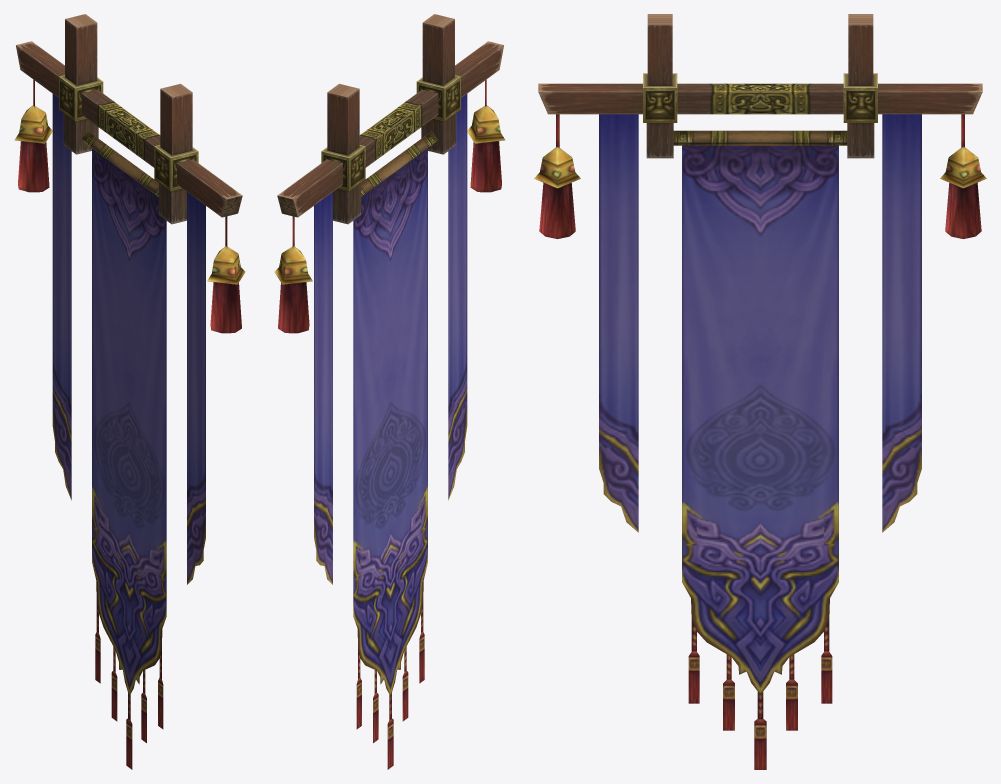
3 renders of one model, left to right at view 1: azimuth 30°, elevation 25°; view 2: azimuth 150°, elevation 25°; view 3: azimuth 270°, elevation 25°, orthographic. The views are drawn at different scales.
Visible parts, largest first — view 1: qi_zi_002_a01; view 2: qi_zi_002_a01; view 3: qi_zi_002_a01.
Part boxes in pixels (x1,y1,x2,y2): qi_zi_002_a01: [14, 14, 245, 769]; qi_zi_002_a01: [274, 14, 505, 769]; qi_zi_002_a01: [534, 14, 986, 769].
Bounding box in the file's own units: 81.69 × 1435 × 785.
Materials: 1 (1 with a texture image).
